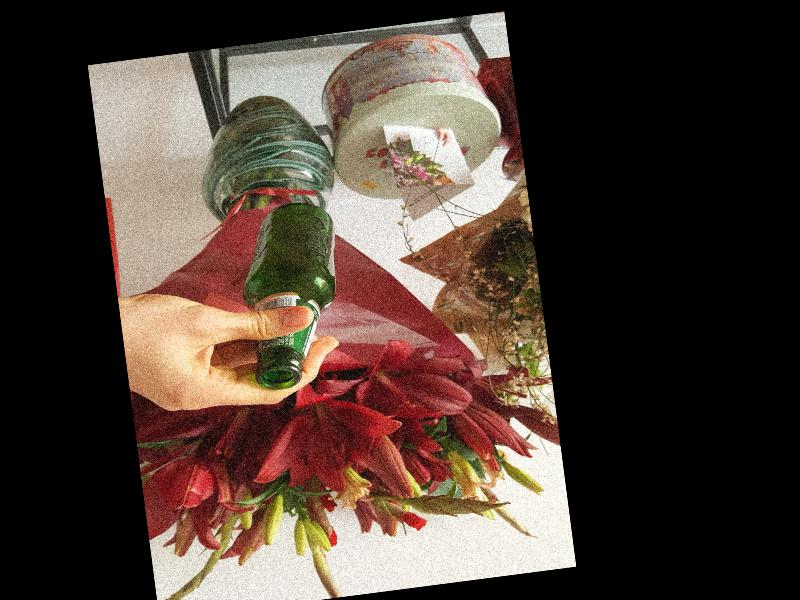Beer: (232, 198, 354, 391)
